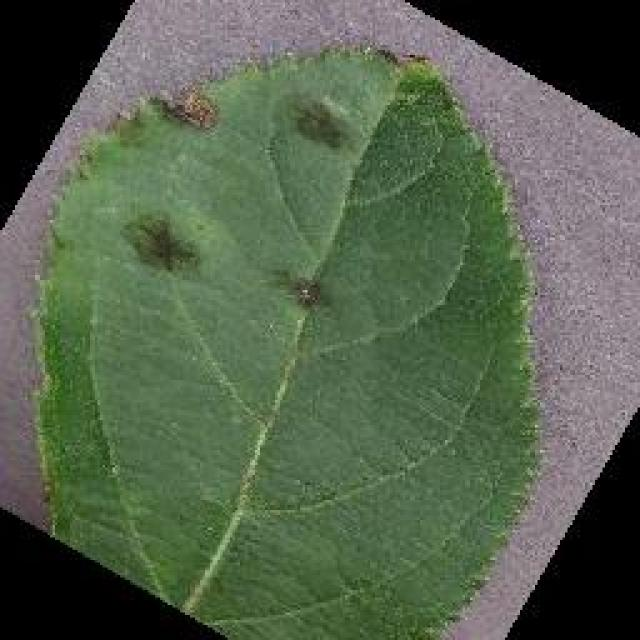apple scab disease: (28, 40, 548, 638)
